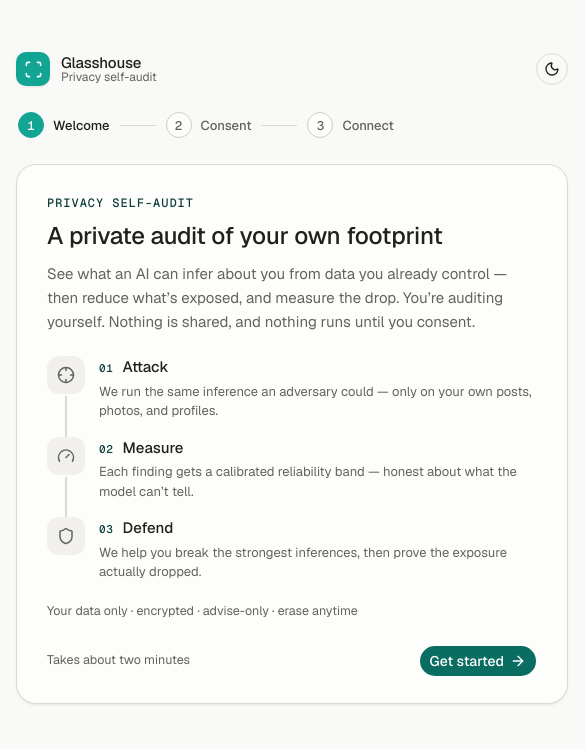
it: OnboardingWizard › reports a failed optional Art. 9 grant instead of faking it
Click the button "Get started".
click(478, 661)  # box [419, 645, 537, 677]
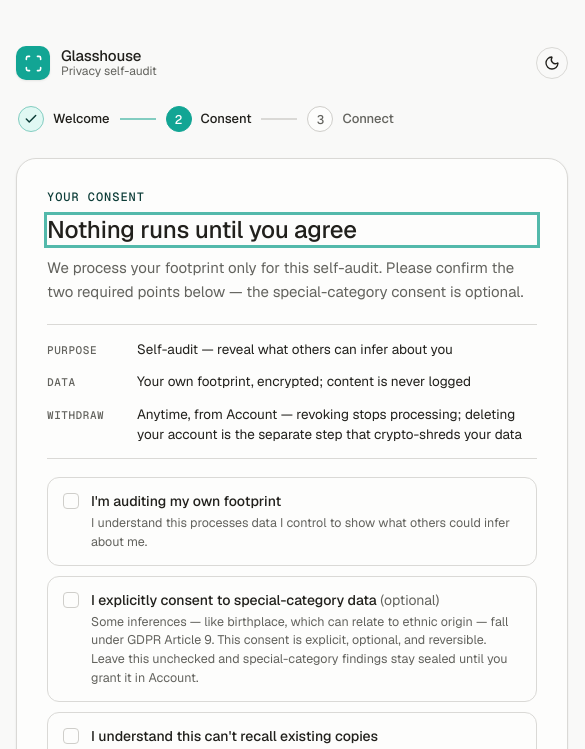
Click the checkbox named "auditing my own footprint" next to "I'm auditing my own footprint".
click(71, 501)  # box [63, 493, 79, 509]
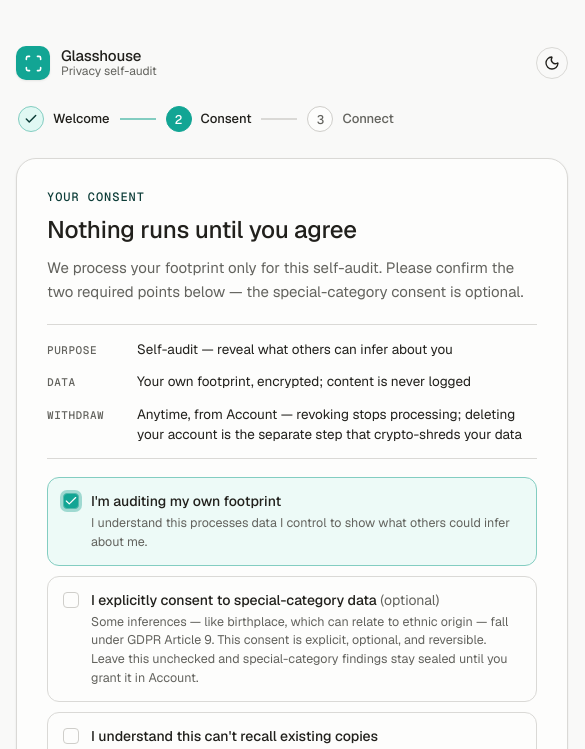
Click the 3rd checkbox named "can't recall existing copies".
click(71, 736)  # box [63, 728, 79, 744]
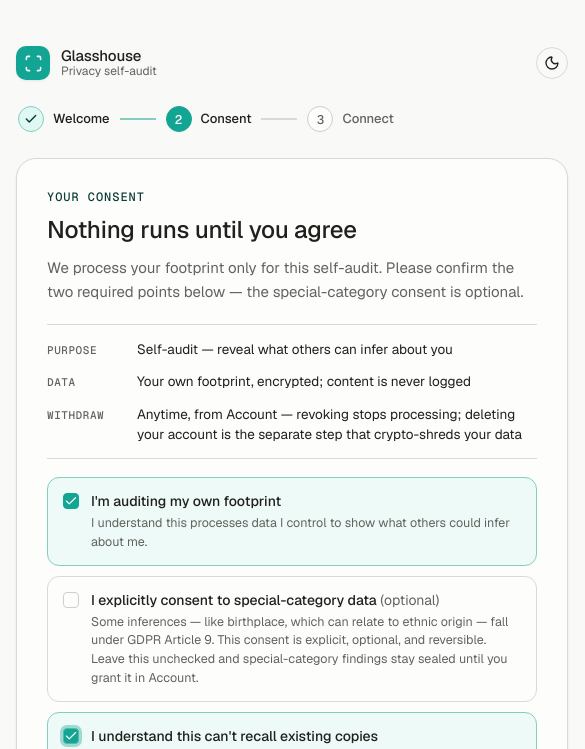
Click the checkbox named "special-category data" in the row of "(optional)".
click(71, 600)  # box [63, 592, 79, 608]
(page scrolled)
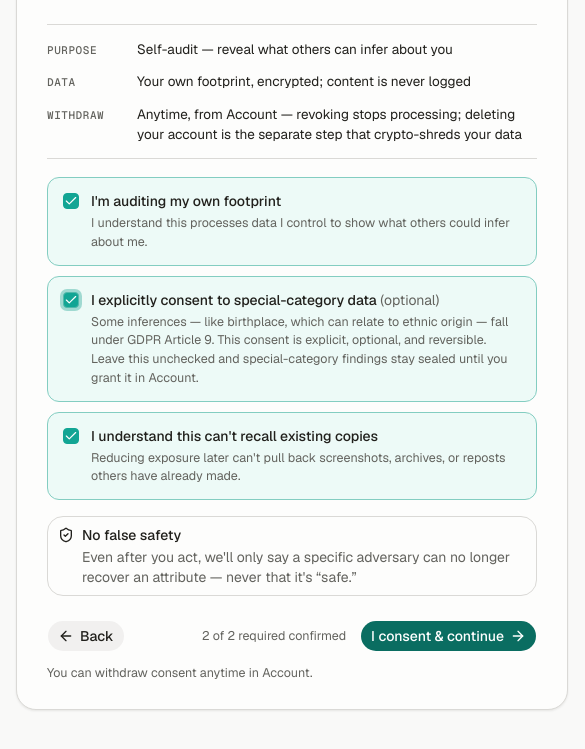
Click the button "I consent & continue".
click(449, 636)  # box [360, 620, 537, 652]
(page scrolled)
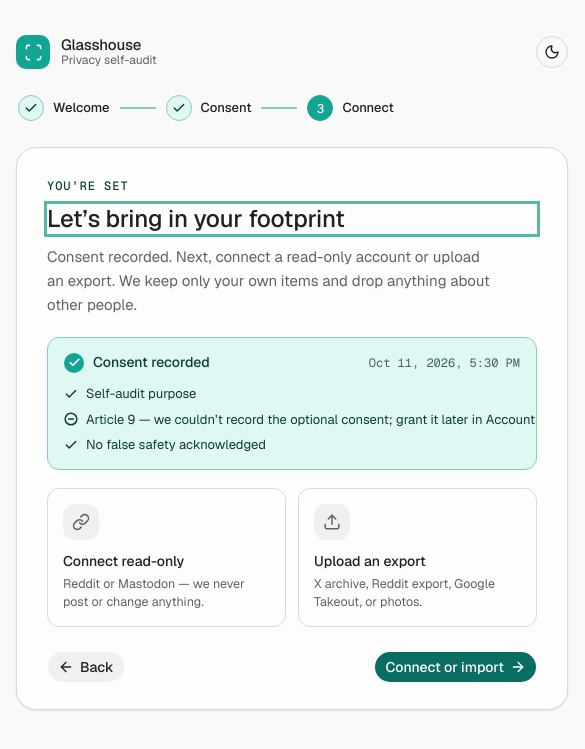
Result: the list item "couldn.t record the optional consent" is shown at [86, 410, 535, 428]
